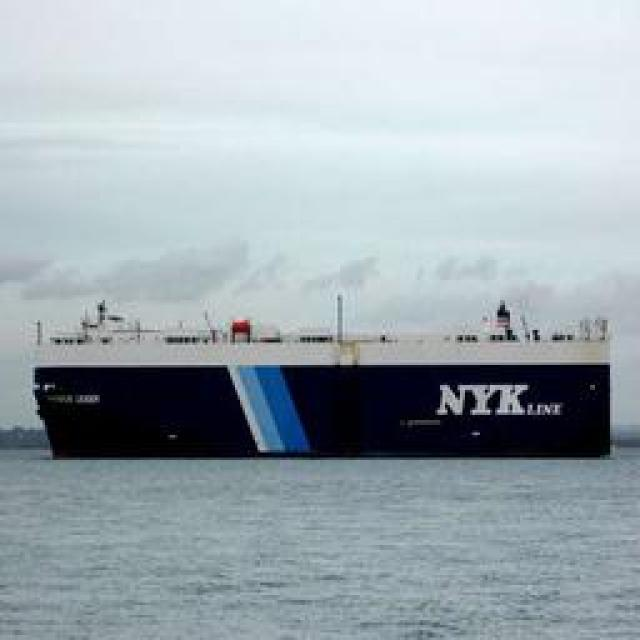CIV_Ship: (22, 282, 620, 466)
